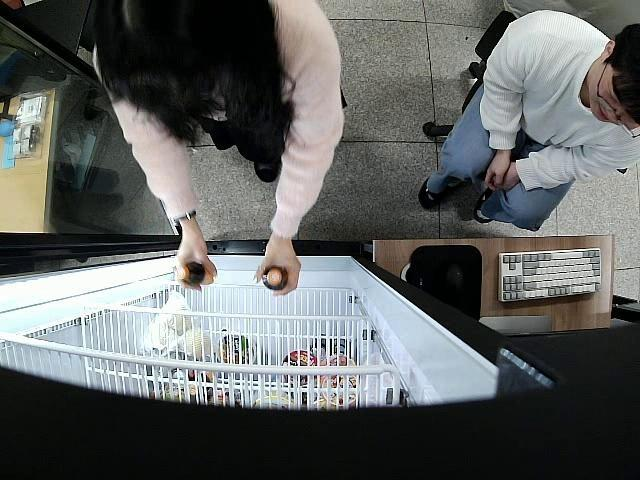17_vita500: (176, 261, 215, 288), (260, 264, 289, 292)
